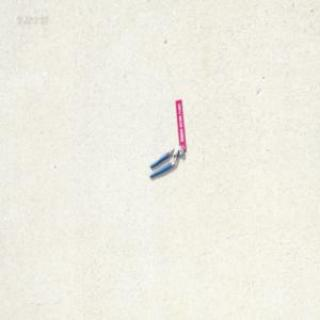LuggageTagtrack_idkeyframe: (174, 97, 186, 149)
Pliertrack_idkeyframe: (148, 144, 183, 178)
